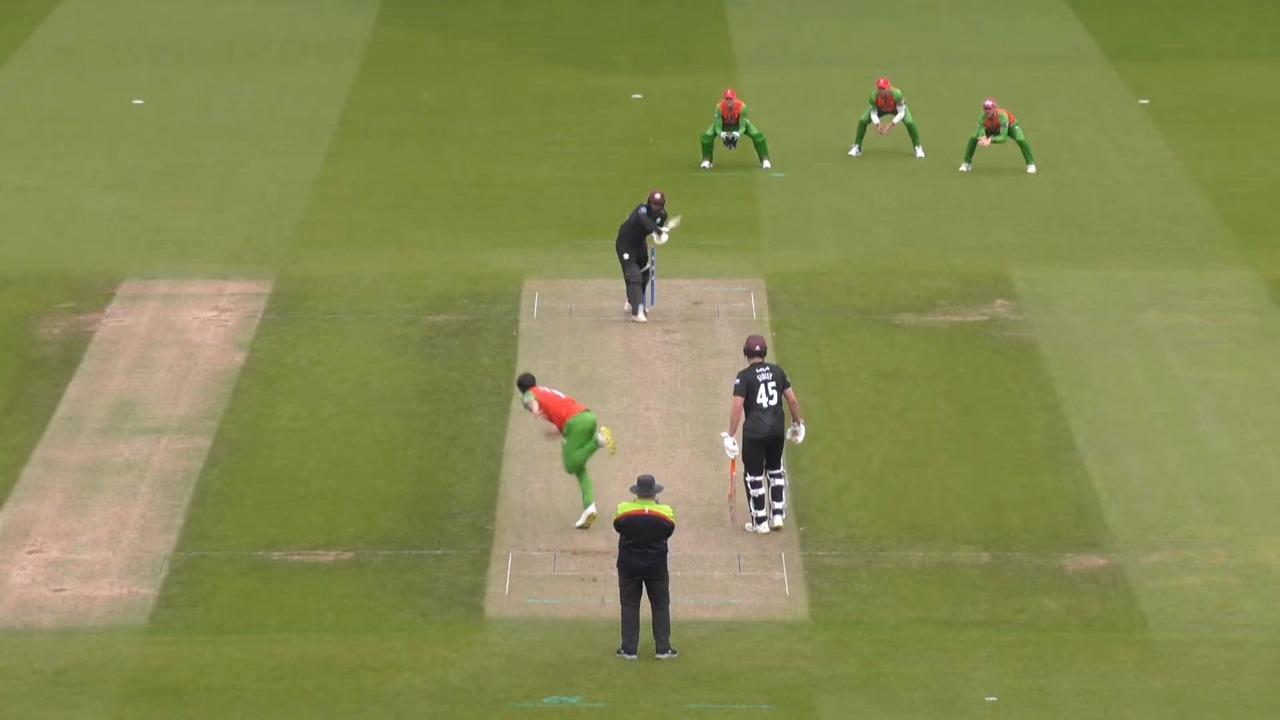sports ball: (638, 305, 644, 319)
